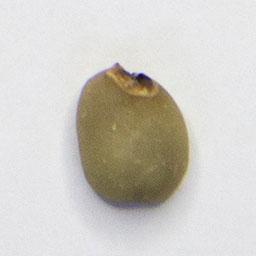defect: (73, 59, 192, 208)
